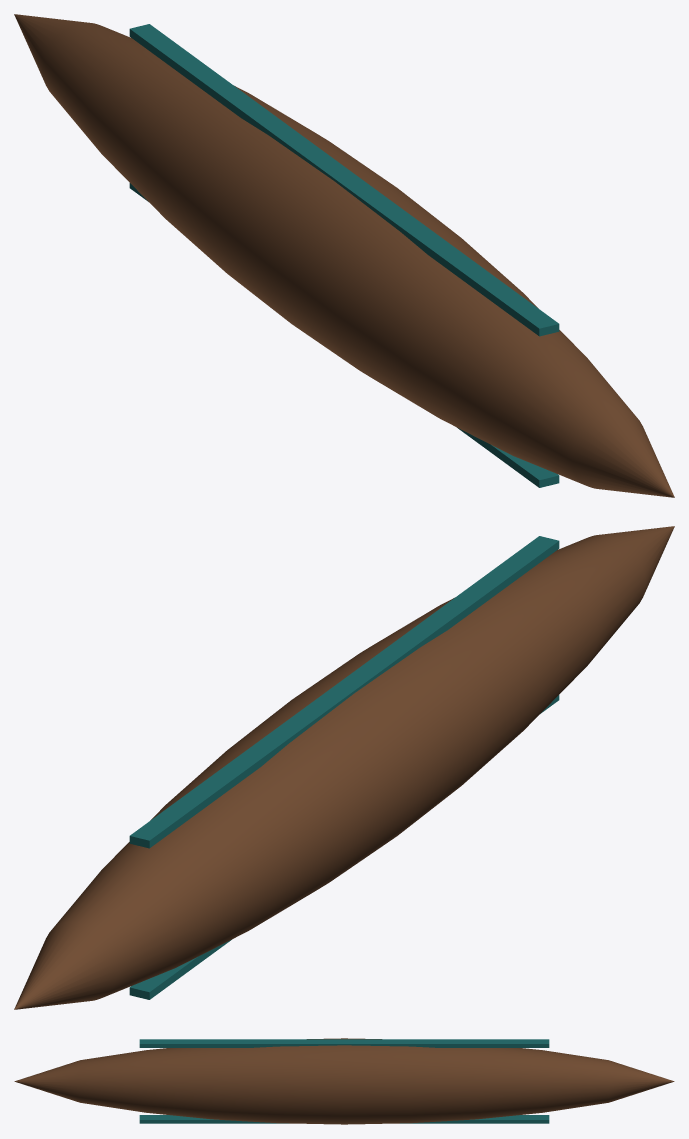
File: kpfe_emitter.obj
The picture shows the model from 3 angles, top to bottom: view 1: azimuth 30°, elevation 25°; view 2: azimuth 150°, elevation 25°; view 3: azimuth 270°, elevation 25°; orthographic projection. The views are drawn at different scales.
Parts seen in each view (by area): view 1: kpfe_emitter; view 2: kpfe_emitter; view 3: kpfe_emitter.
Part boxes in pixels (x1,y1,x2,y2): kpfe_emitter: (14, 14, 674, 497); kpfe_emitter: (14, 526, 674, 1009); kpfe_emitter: (14, 1038, 674, 1124).
Size of the model in its own units: 0.6 by 0.612 by 4.6.
